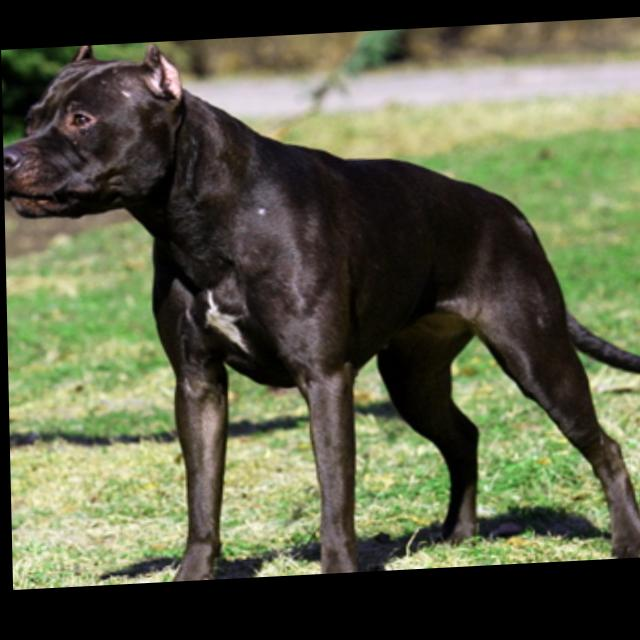am_pit_bull_terrier: (2, 25, 640, 591)
